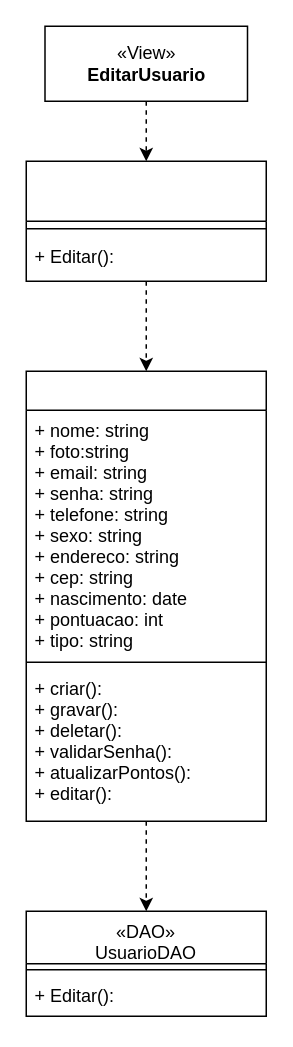
This 293x1047 diagram has some shape labels left out. Each missing label, with the box of its shape:
Usuario: (25, 370, 266, 821)
«Control» UsuarioCtr: (25, 160, 266, 281)
